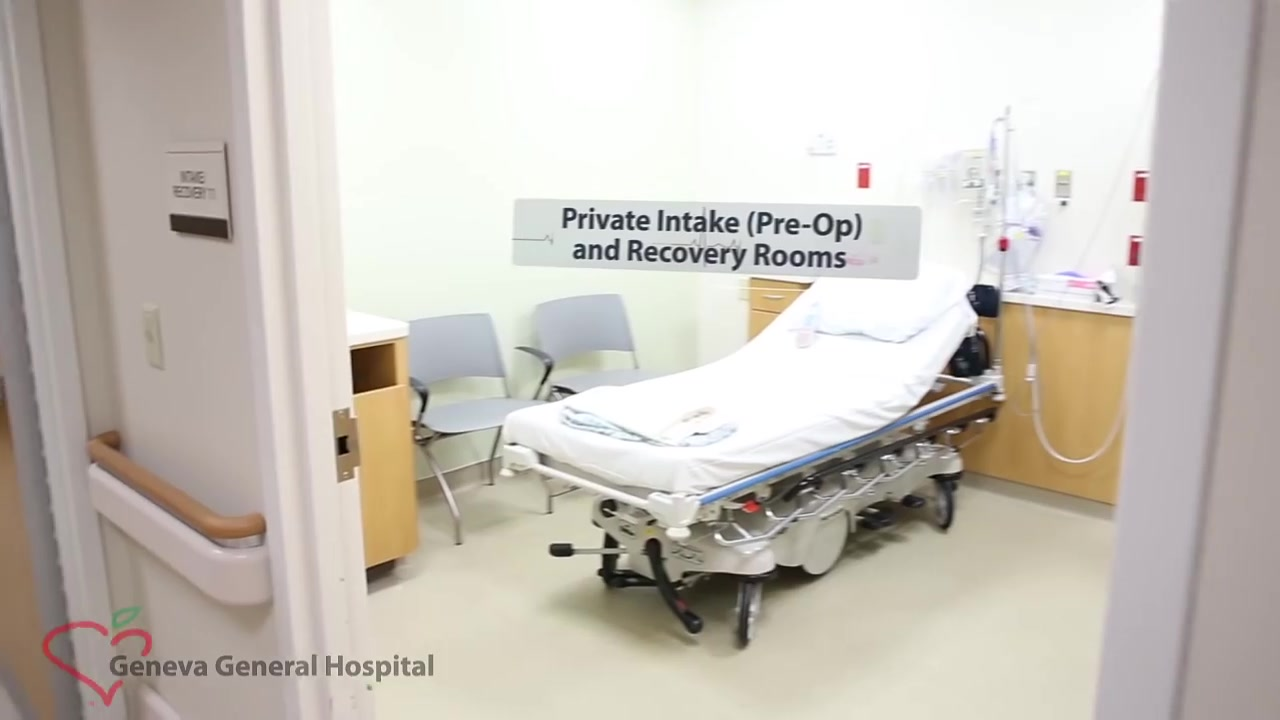chair: (407, 311, 554, 545), (515, 292, 665, 404)
counter: (969, 273, 1135, 501)
hallway_assist_bar: (86, 430, 274, 607)
handle: (759, 289, 791, 305)
hospital_bed: (505, 222, 1007, 652)
iv_pole: (994, 100, 1014, 383)
light_switch: (141, 303, 164, 372)
table: (345, 300, 424, 570)
